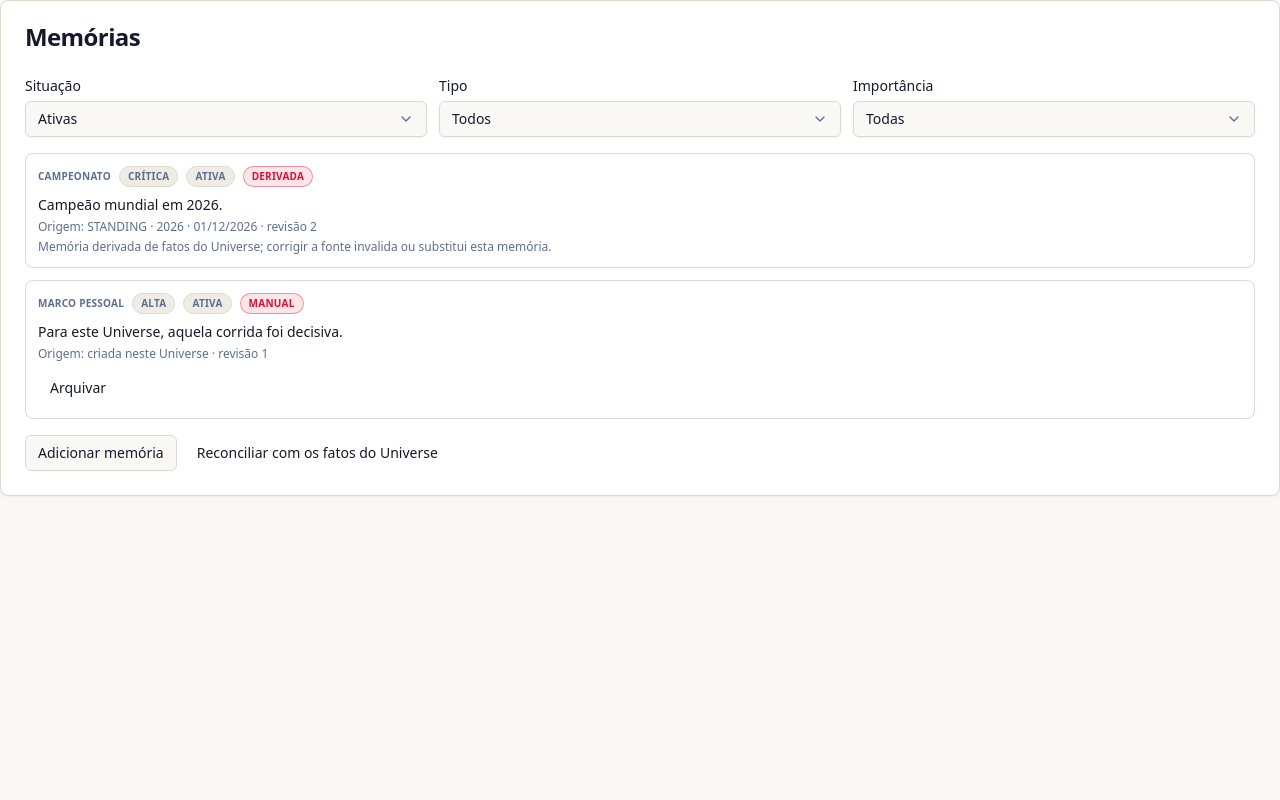
pilot experience panels › 3) criação manual envia payload e mostra aviso de Universe
The image size is (1280, 800).
Expected: the text "Campeão mundial em 2026." is shown, left=38, top=195, right=222, bottom=214
Click the button "Adicionar memória" at (101, 453), box left=25, top=435, right=177, bottom=471
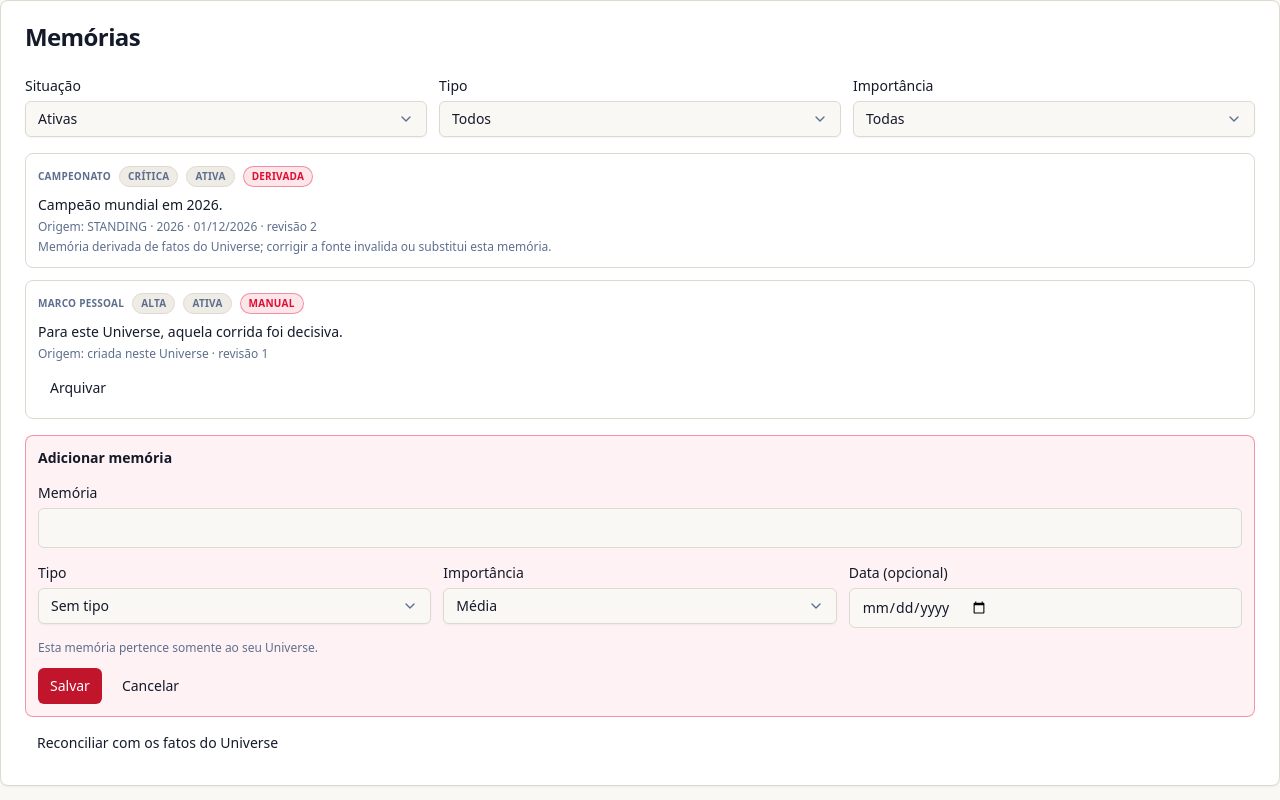
Type "Memória nova do usuário" into the field labelled "Memória" at (640, 528), box left=38, top=508, right=1242, bottom=548
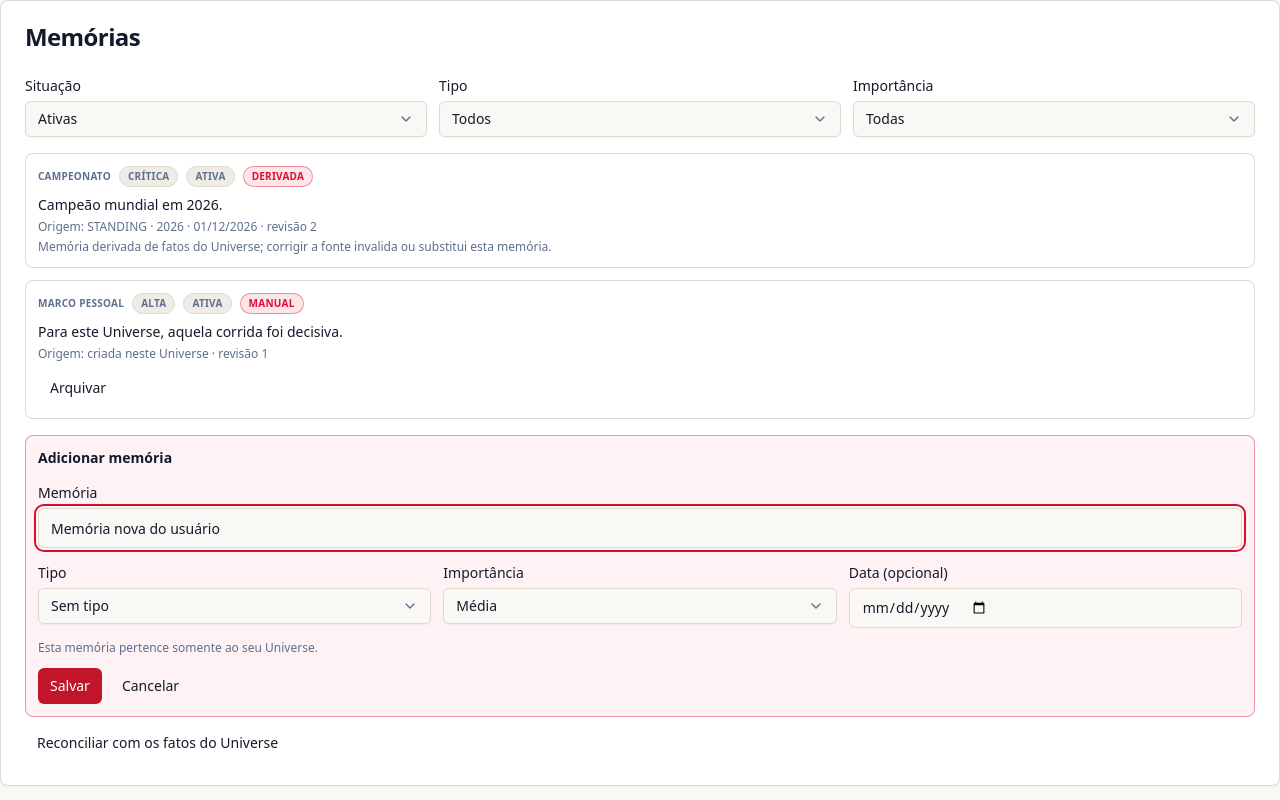
Click the button "Salvar" at (70, 686), box left=38, top=668, right=102, bottom=704
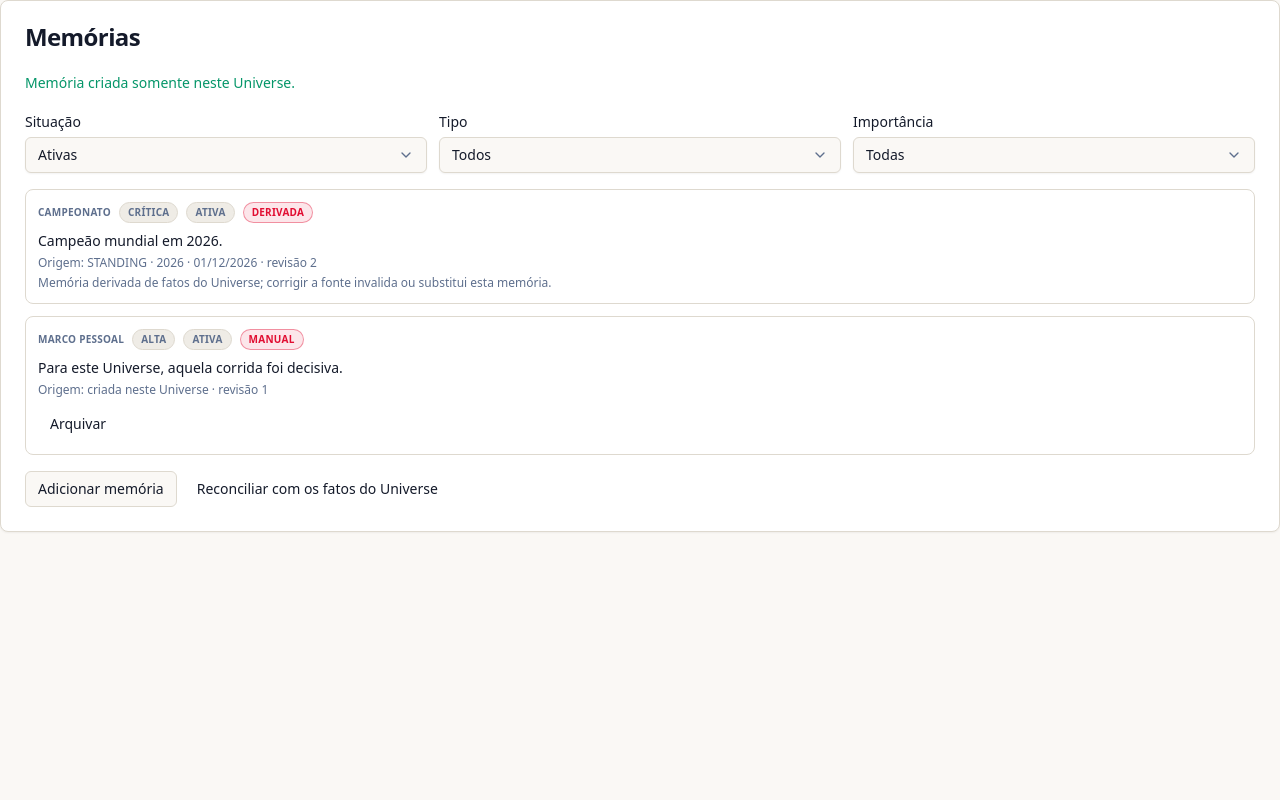
Expected: the text "Memória criada somente neste Universe." is shown, left=25, top=73, right=295, bottom=92
